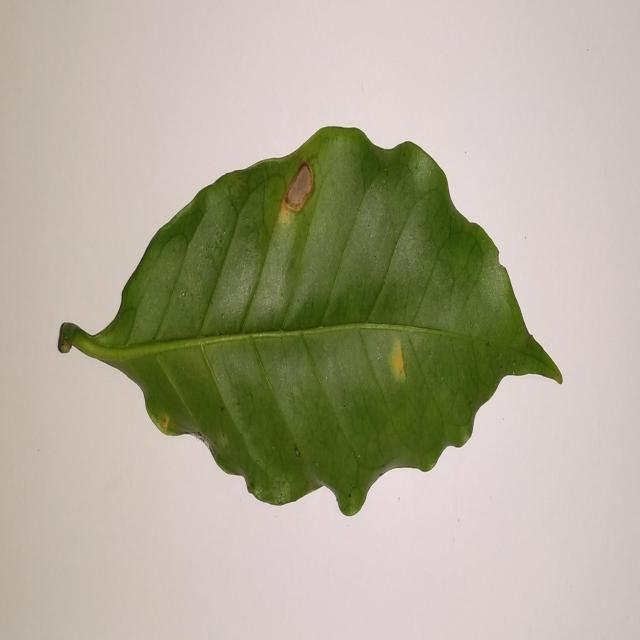rust: (276, 157, 318, 225), (377, 329, 422, 391)
